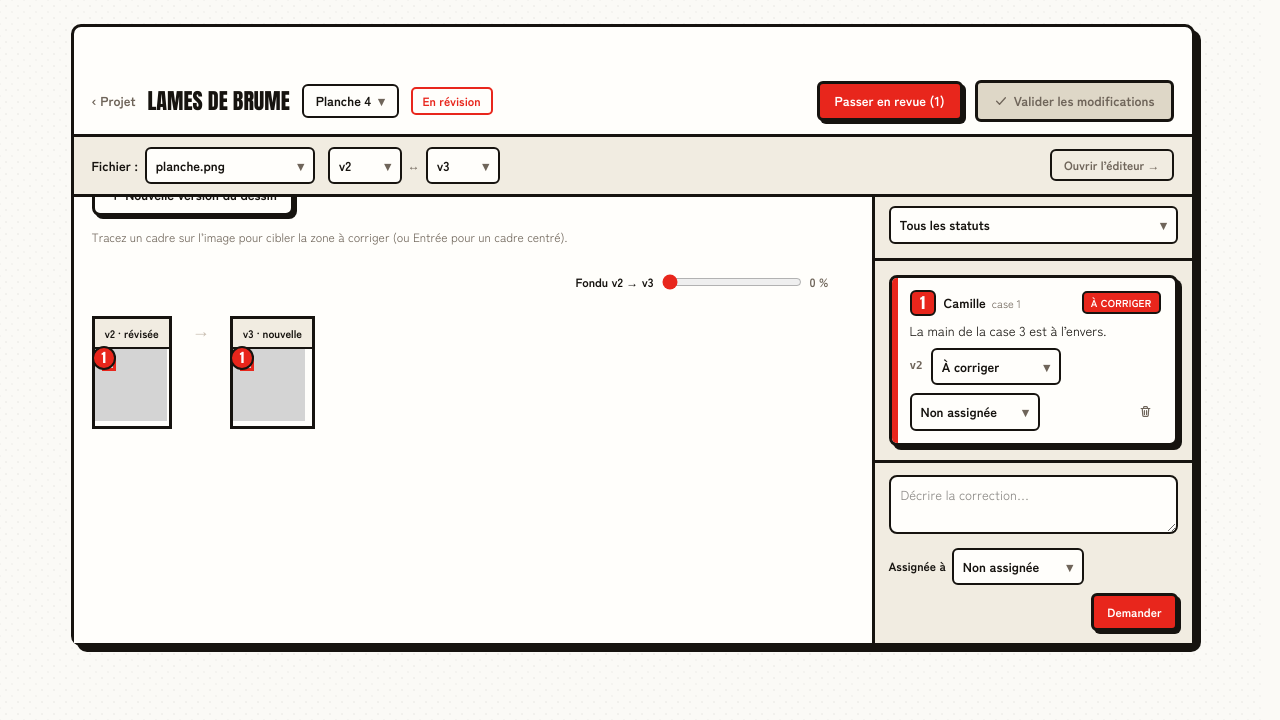
Test: ReviewClient — CS-25 new-version triage › keeps the mode open and shows the refusal when the decision is denied (403)
This screenshot has width=1280, height=720.
Click the button "Passer en revue (1)" at (890, 101), box [816,81,963,121]
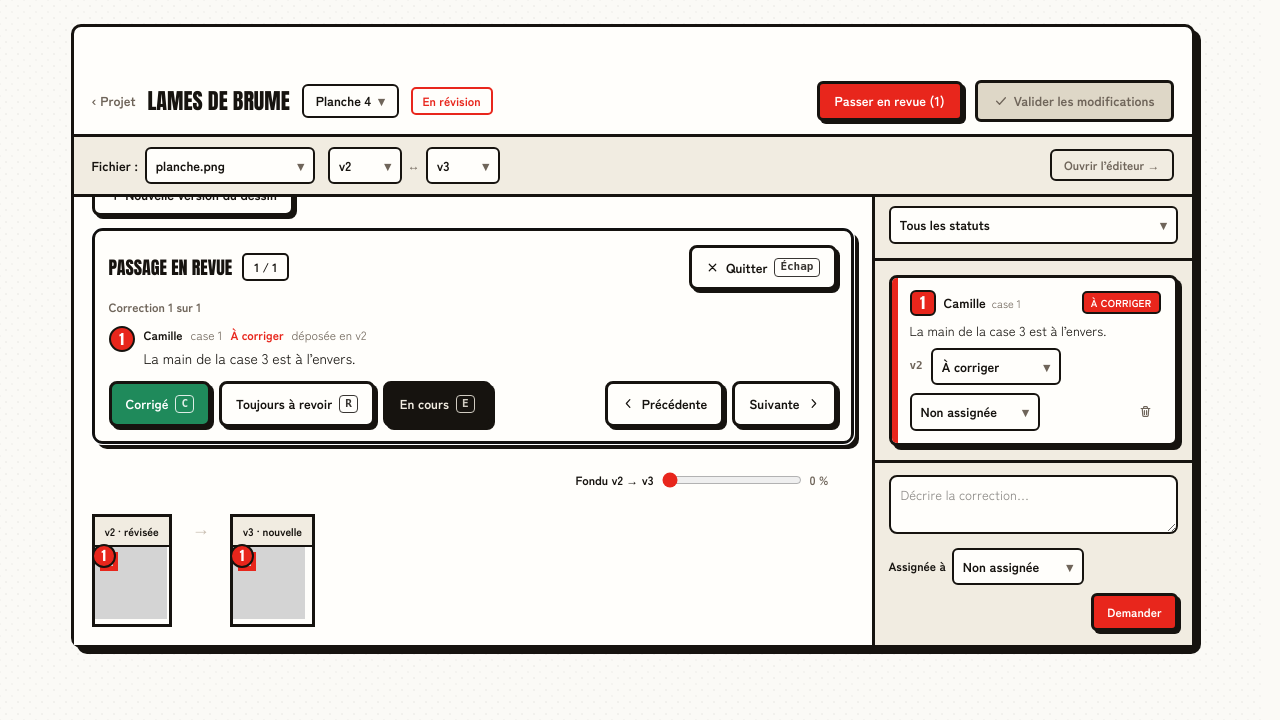
Press c
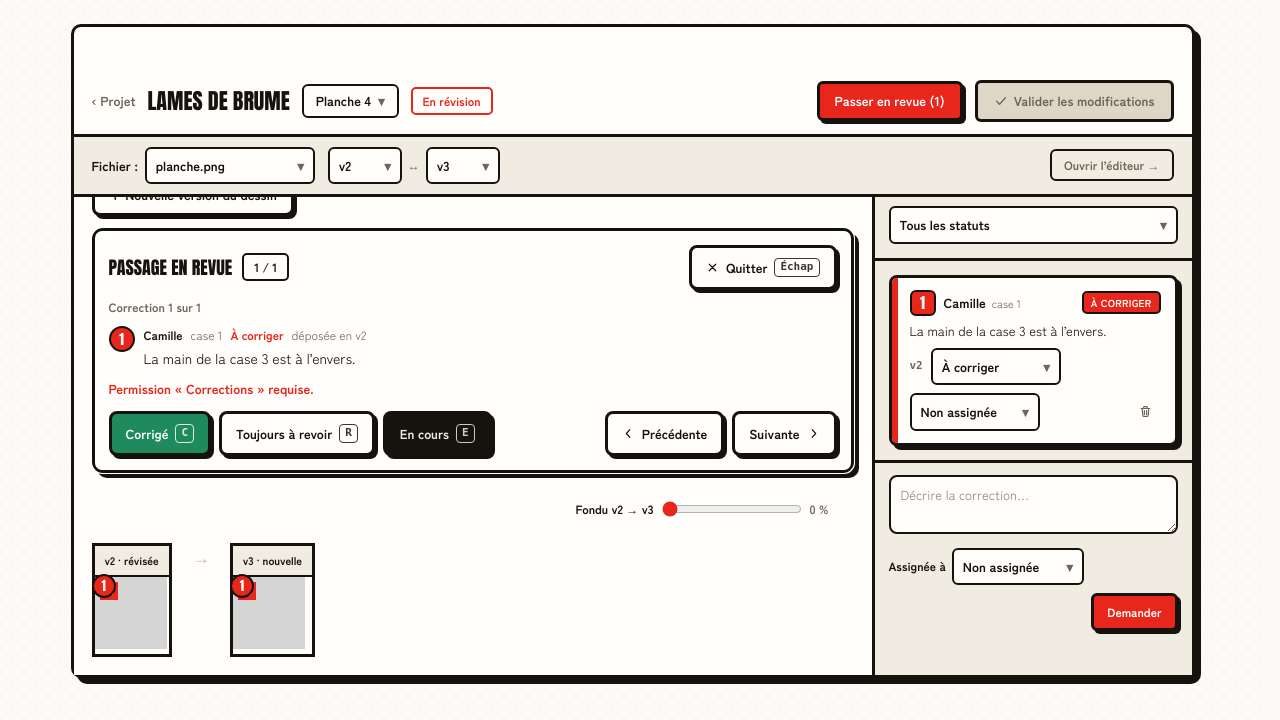
Check: the message "Permission « Corrections » requise." is shown, box [108,379,314,398]
